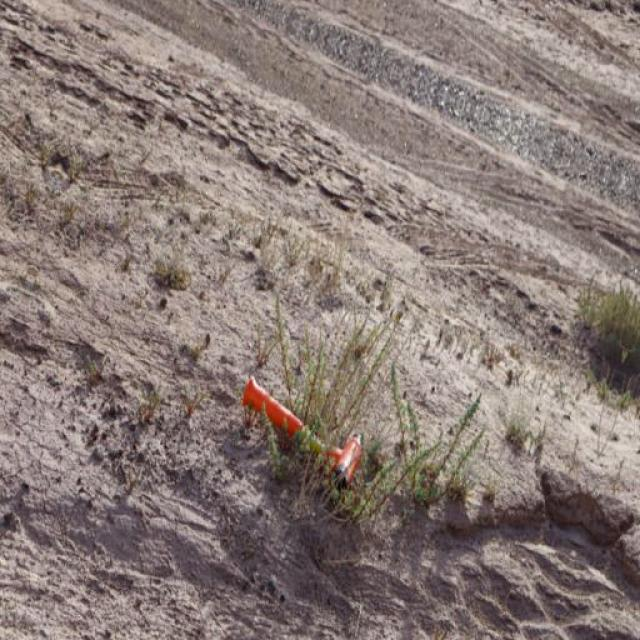mallet: (243, 375, 365, 489)
